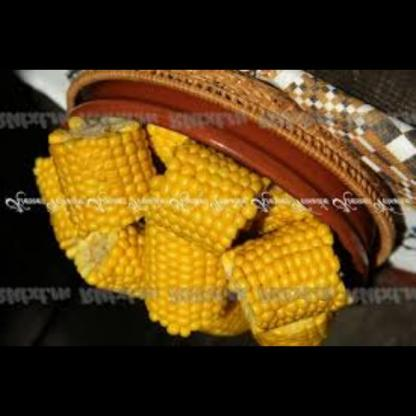corn: (223, 223, 338, 342), (141, 154, 270, 260), (52, 122, 157, 237), (142, 236, 244, 339), (64, 224, 160, 301)
